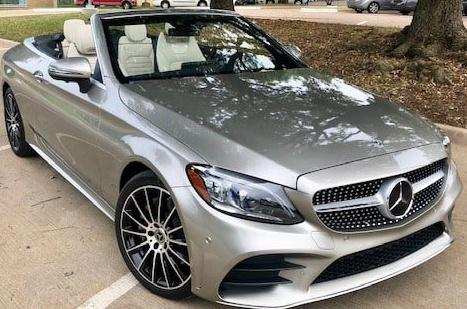Cars: (1, 11, 463, 307)
